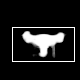plane: (8, 26, 77, 63)
